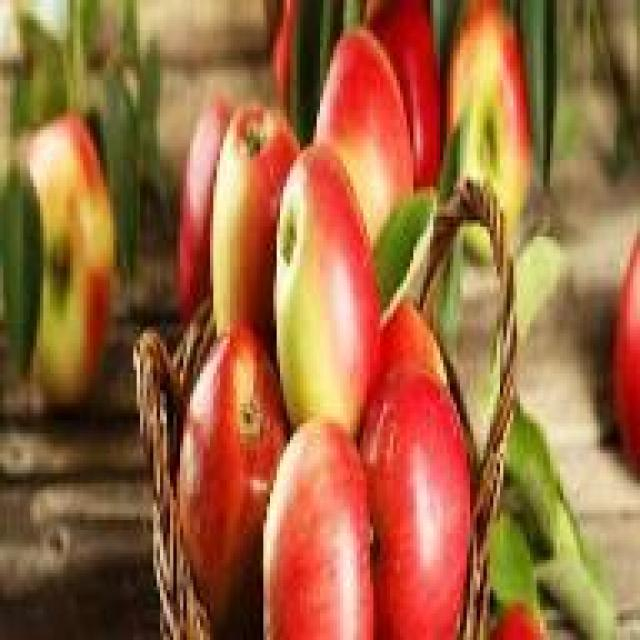apple: (274, 140, 384, 443), (174, 313, 284, 610), (363, 363, 477, 637), (260, 403, 377, 637), (314, 20, 424, 257), (23, 120, 114, 403), (213, 107, 300, 333), (450, 17, 537, 220)
